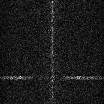wifi: (1, 75, 104, 79)
